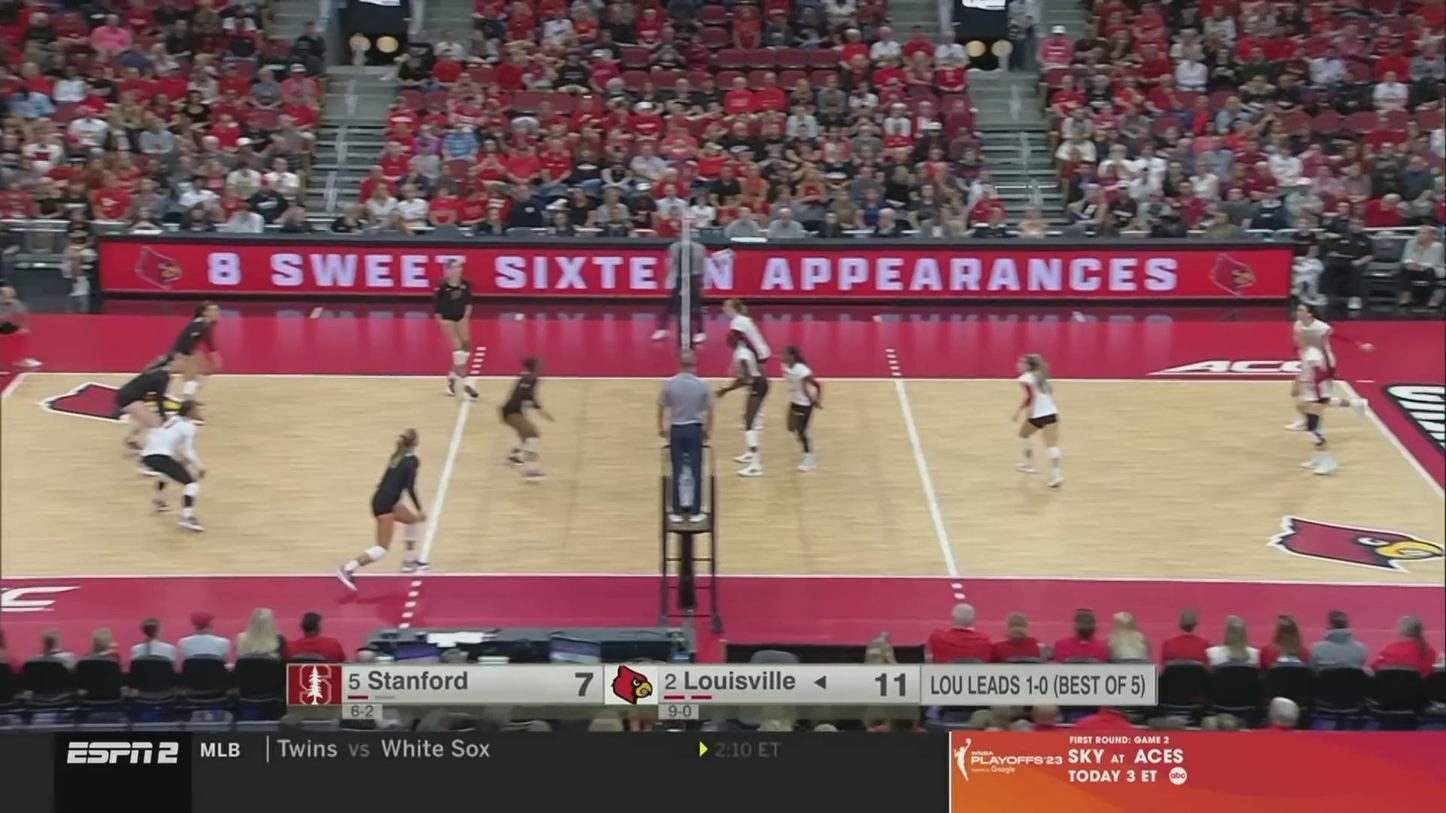player: (337, 429, 430, 587), (1290, 309, 1372, 429), (115, 350, 186, 472), (144, 402, 207, 530), (719, 329, 772, 475), (499, 355, 555, 481), (1293, 329, 1340, 473), (1012, 356, 1063, 487), (432, 257, 478, 399), (169, 300, 220, 423), (725, 298, 772, 431), (781, 345, 822, 471)
refree: (659, 354, 715, 525), (653, 230, 706, 343), (0, 284, 38, 373)
